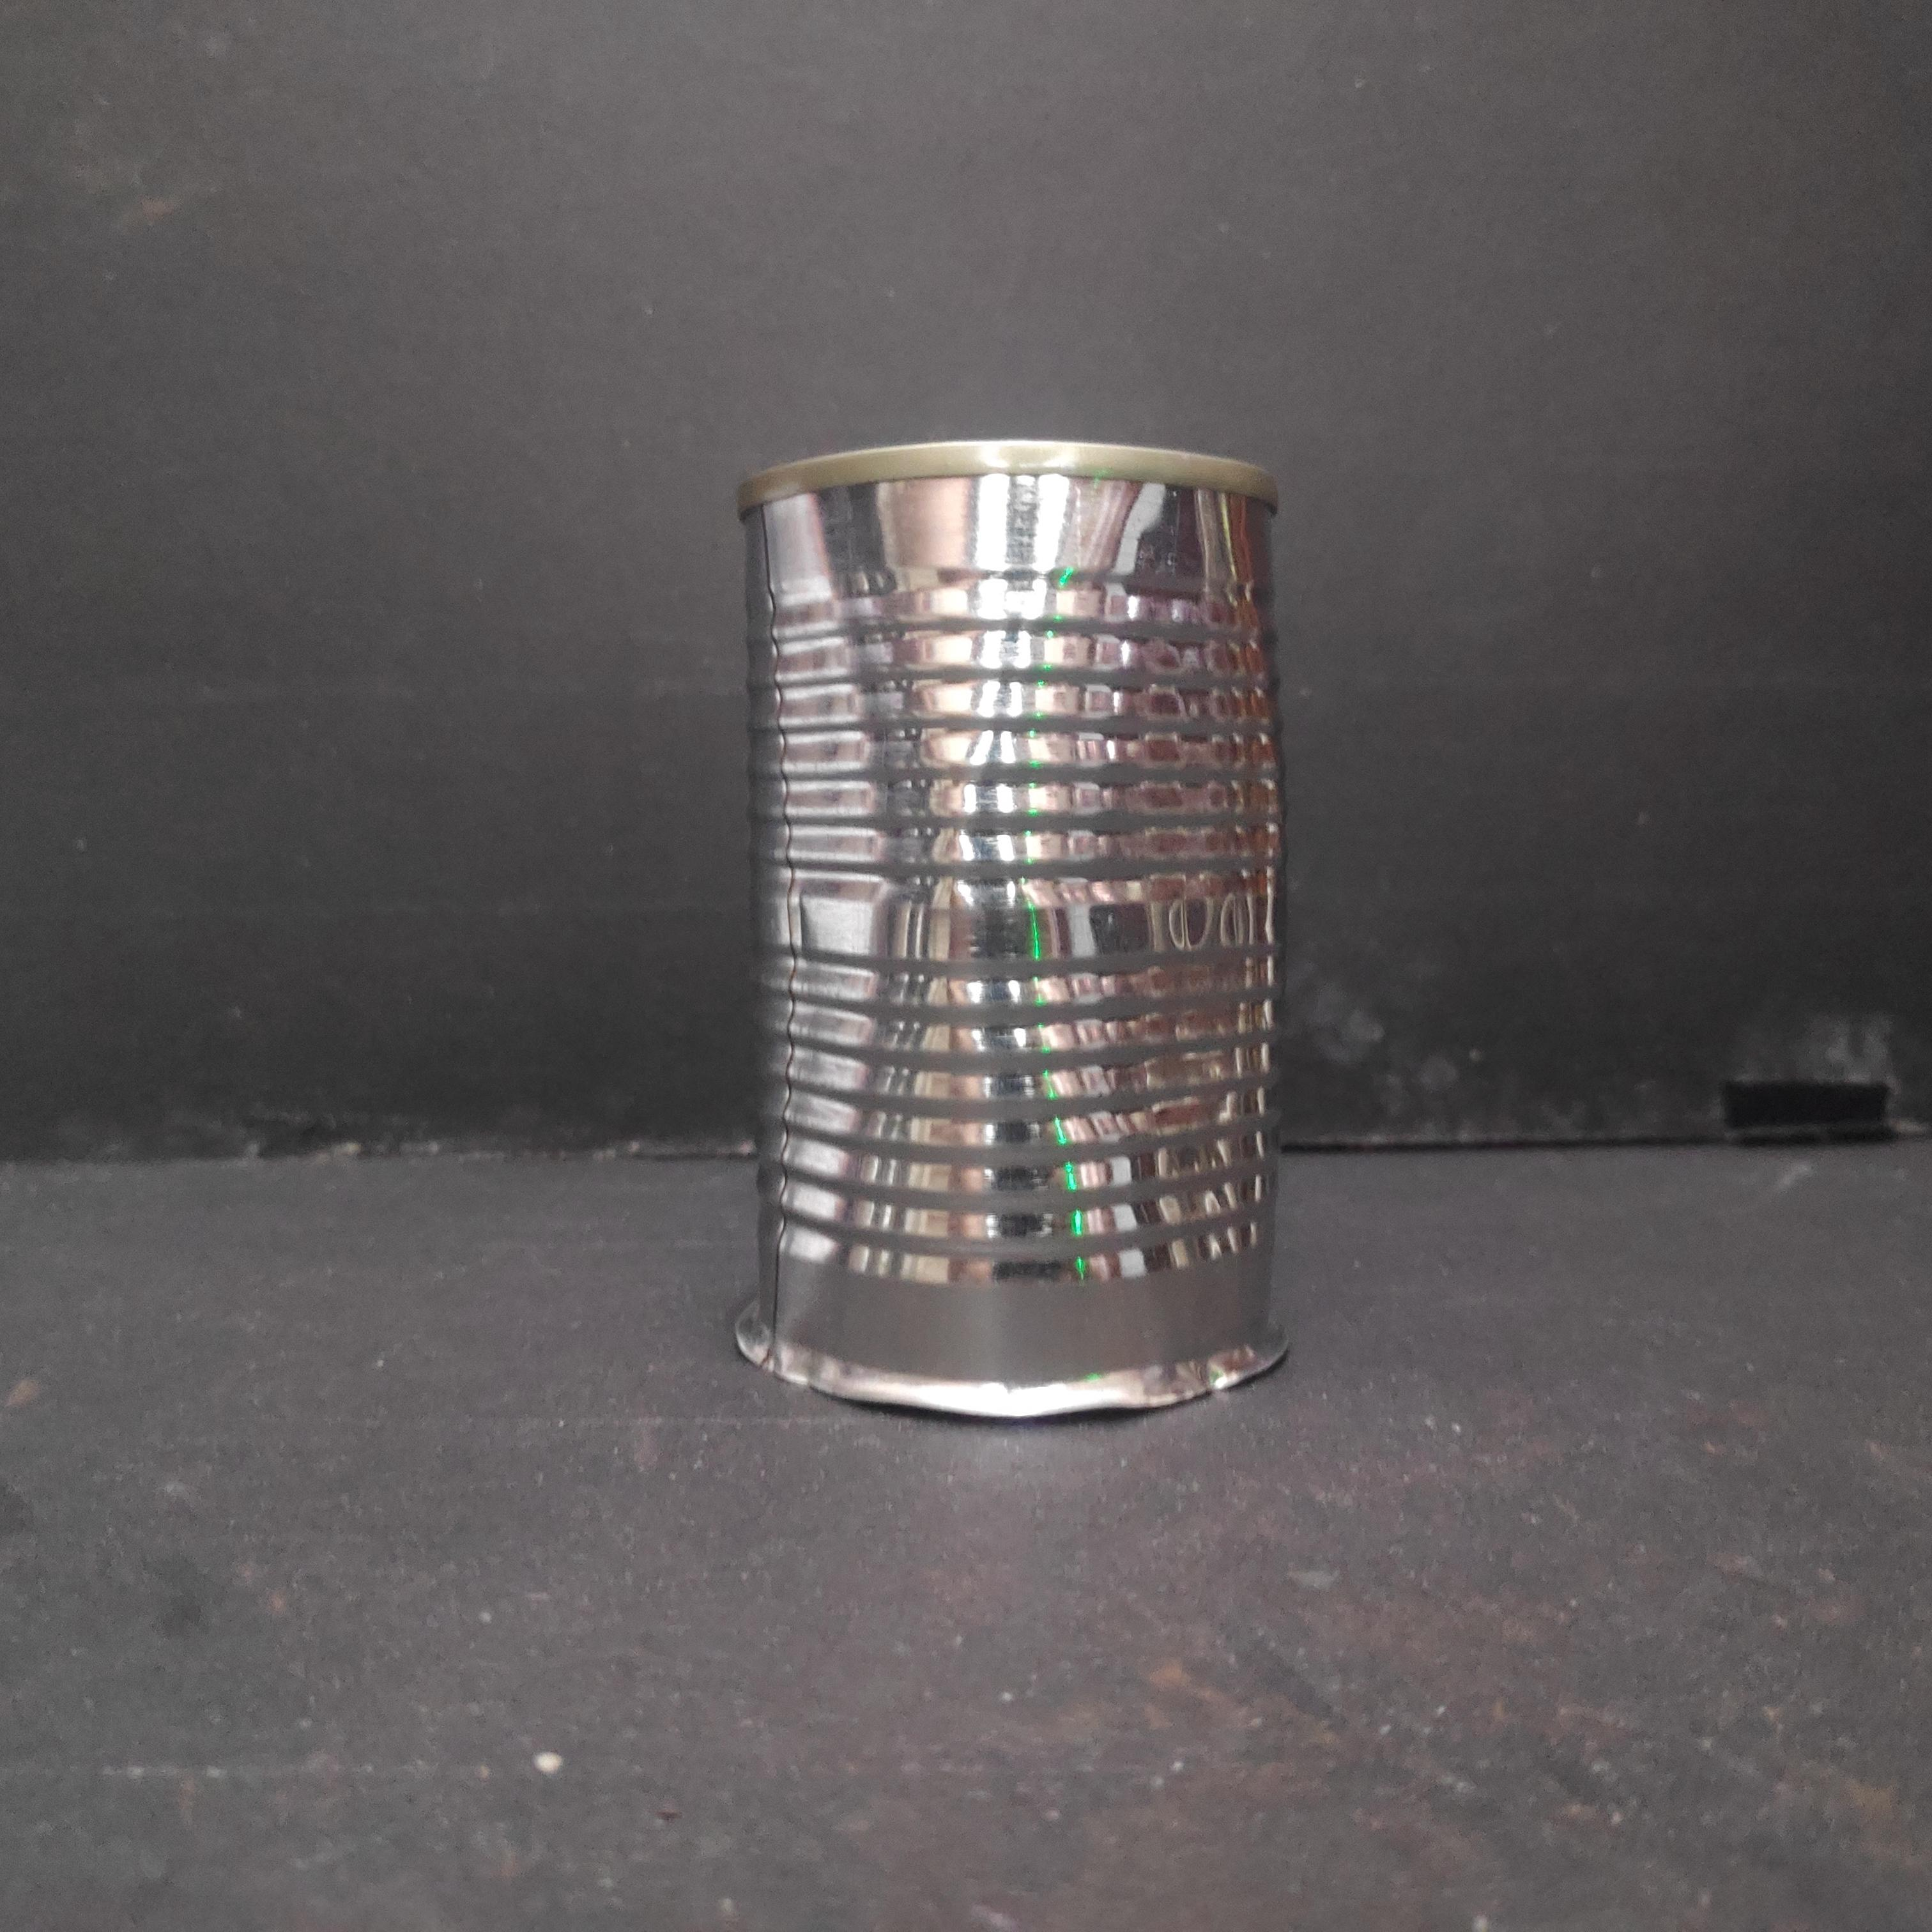Minor Defect: (727, 432, 1293, 1417)
